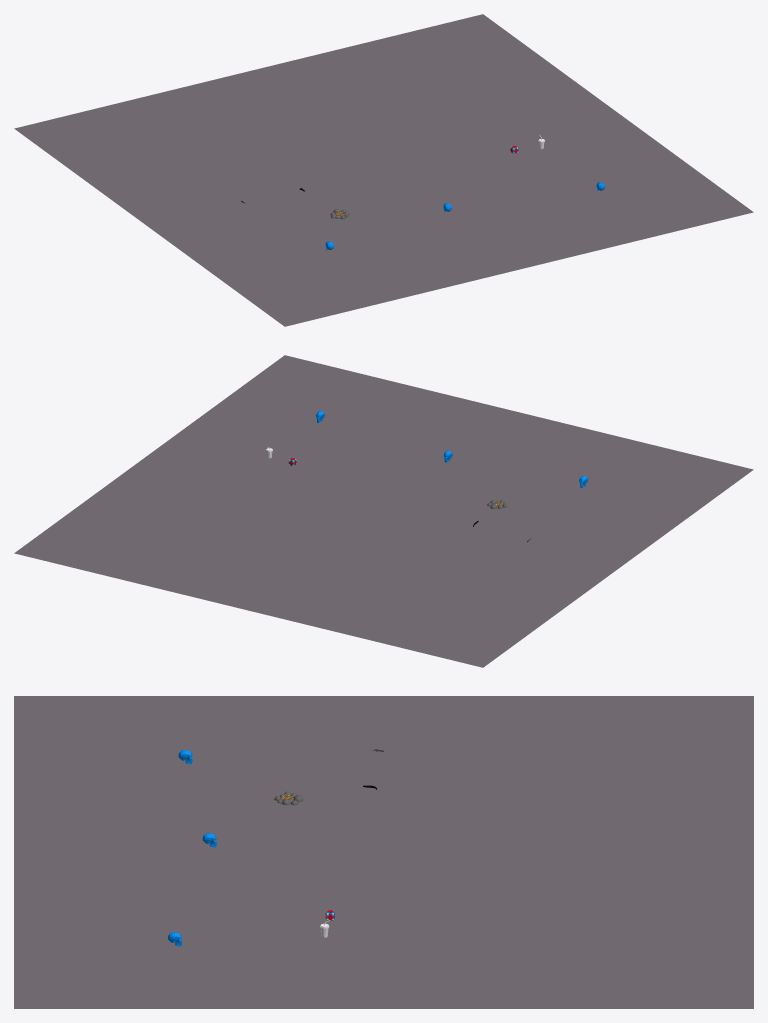
3 views of the same model, one above another, from view 1: azimuth 30°, elevation 25°; view 2: azimuth 150°, elevation 25°; view 3: azimuth 270°, elevation 25° (orthographic). The views are drawn at different scales.
Parts seen in each view (by area): view 1: ground; view 2: ground; view 3: ground.
Boxes of the visible parts, left/top/right/bottom form: ground: left=14, top=14, right=753, bottom=326; ground: left=14, top=355, right=753, bottom=667; ground: left=14, top=696, right=753, bottom=1008.
Size of the model in its own units: 100 by 3.47 by 100.
50 materials, 1 textured.
